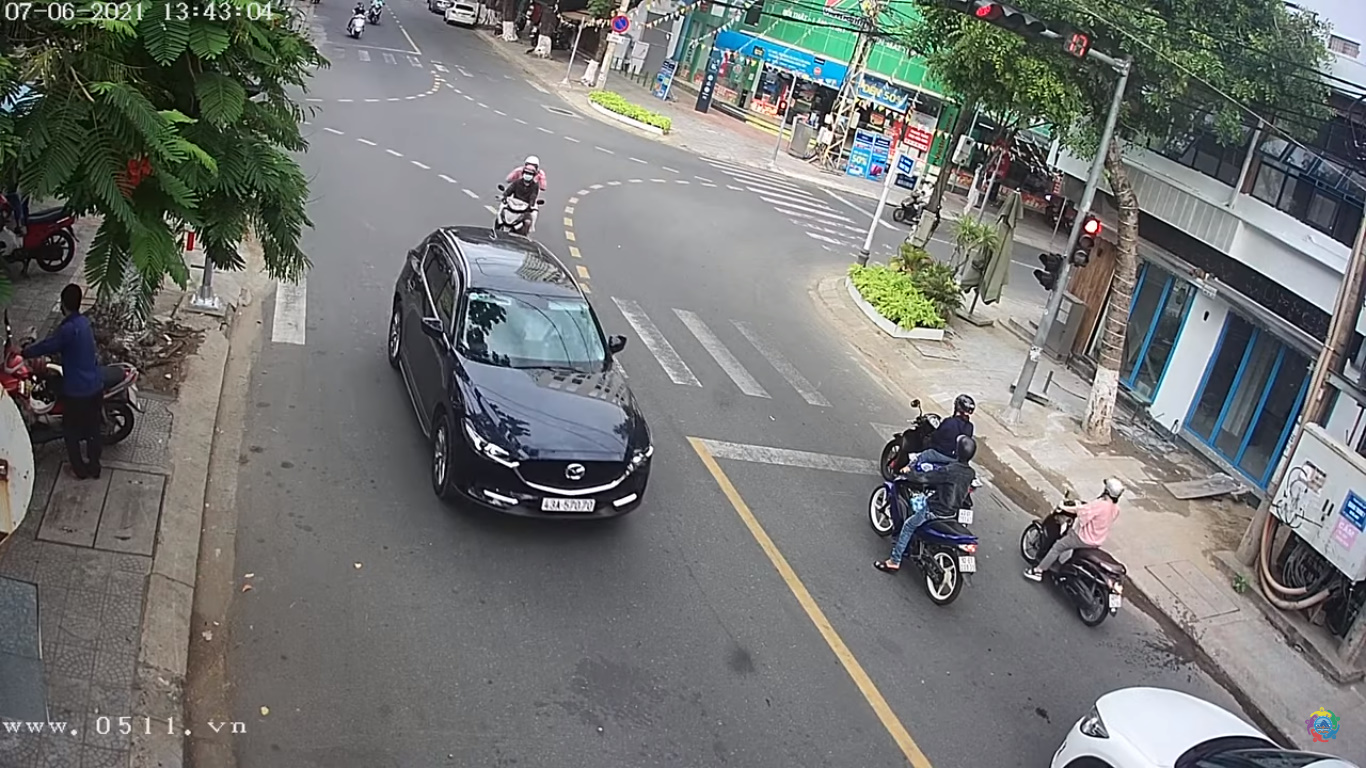car: (385, 224, 659, 523)
